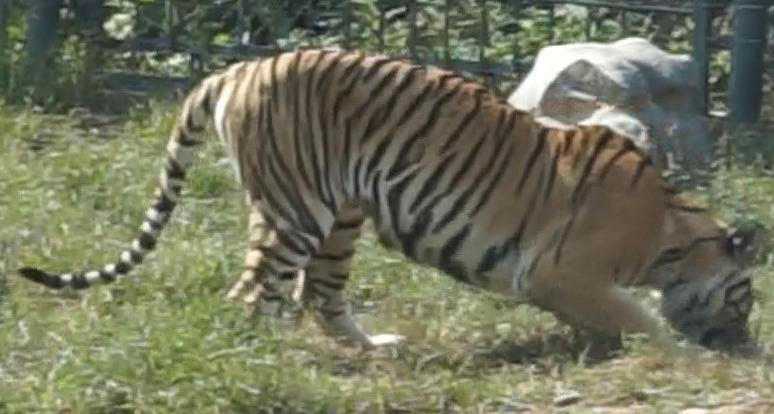tiger: (21, 48, 757, 353)
